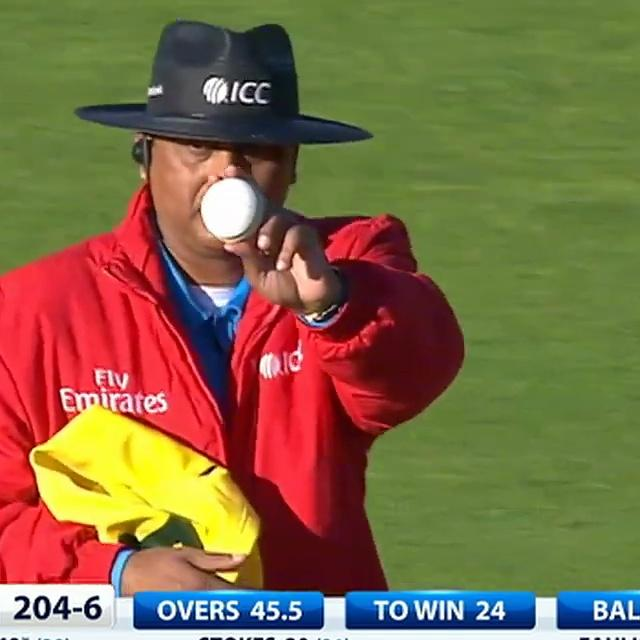umpire: (0, 0, 494, 592)
